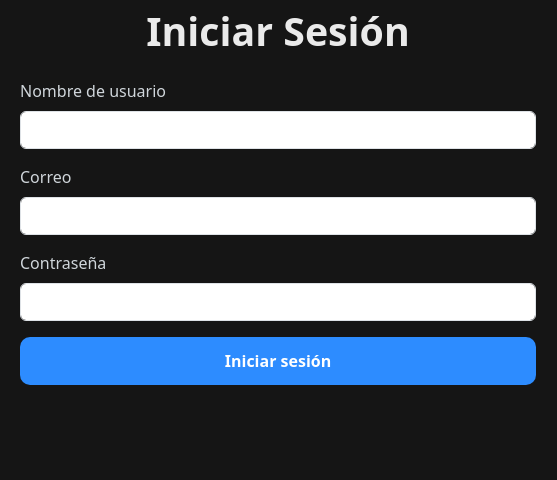
Test: Login Component › debe mostrar error con credenciales incorrectas
In the field named "username" below "Nombre de usuario": (278, 130) [20,111,536,149], type "wrong"
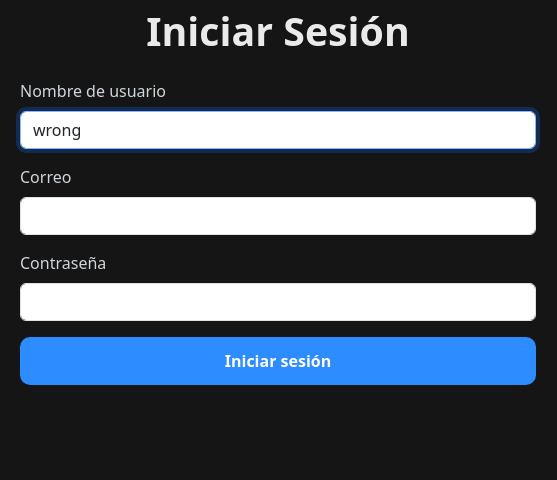
In the field named "email" below "Correo": (278, 216) [20,197,536,235], type "wrong@test.com"
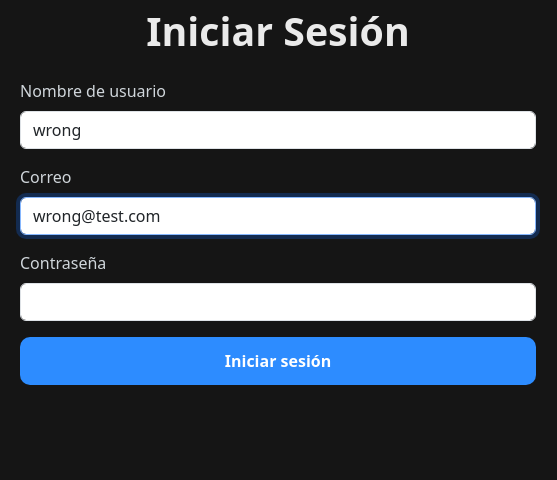
In the password field named "password": (278, 302) [20,283,536,321], type "wrong"
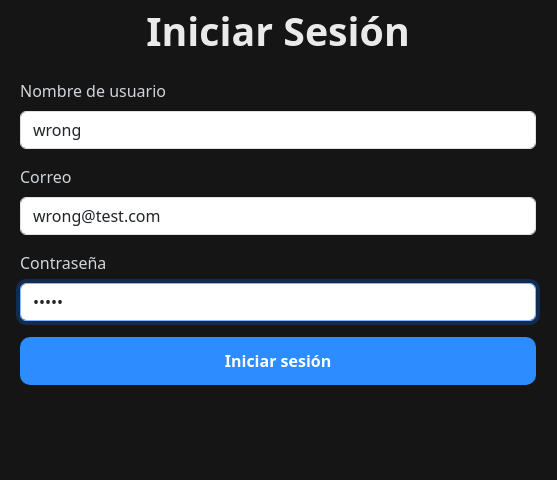
Click the button "Iniciar sesión": (278, 361) [20,337,536,385]
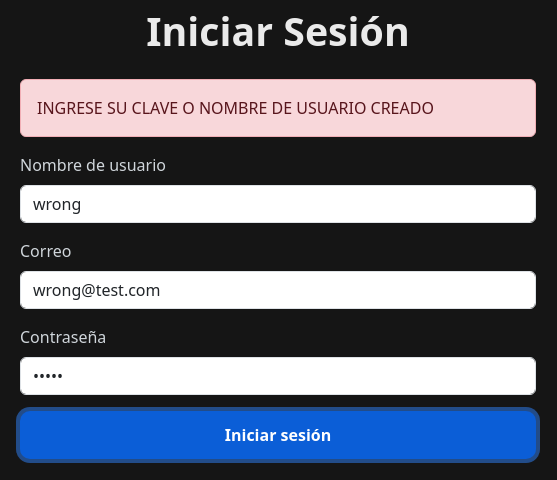
Expected: the text "INGRESE SU CLAVE O NOMBRE DE USUARIO CREADO" is shown, [20,79,536,137]
